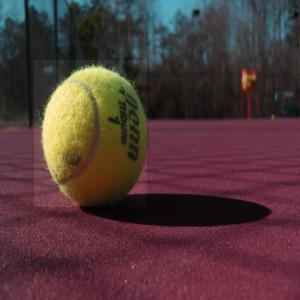TennisBall: (36, 61, 150, 209)
